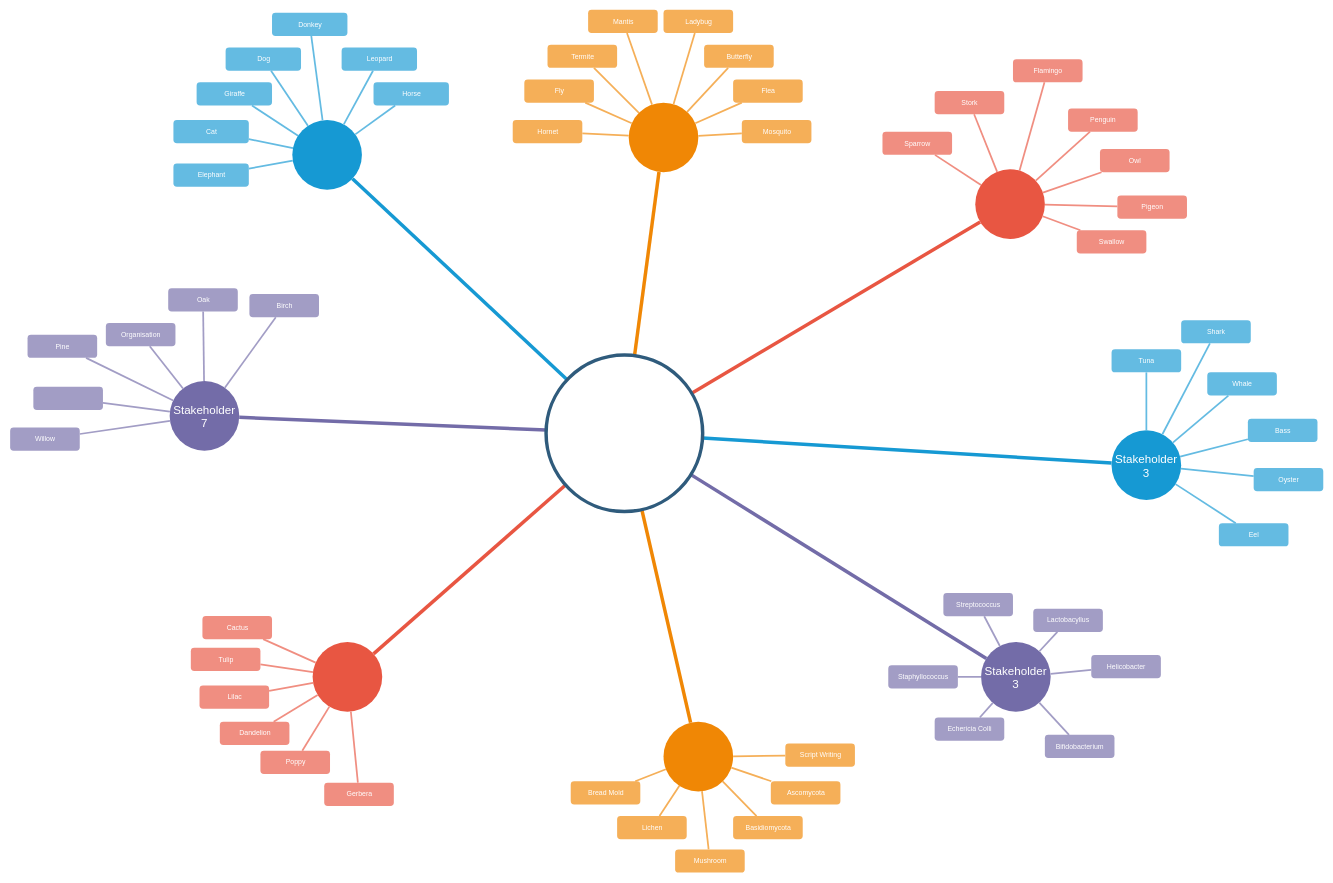
This 1333x883 diagram has some shape labels left out. Each missing label, with the centre of its shape:
Acacia: the point at 68,398
Stakeholder 1: the point at 347,676
Stakeholder 2: the point at 698,756
Stakeholder 4: the point at 1010,204
Stakeholder 5: the point at 663,137
Stakeholder 6: the point at 327,154
Stakeholders: the point at 624,433
